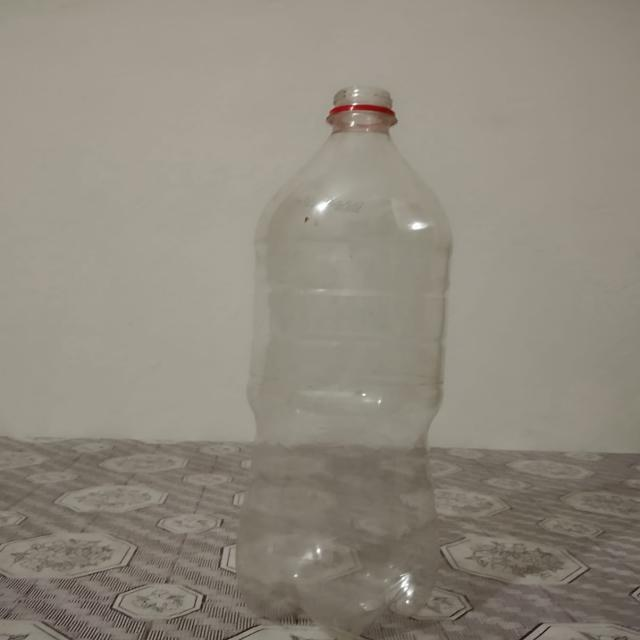bottle: (241, 83, 451, 635)
